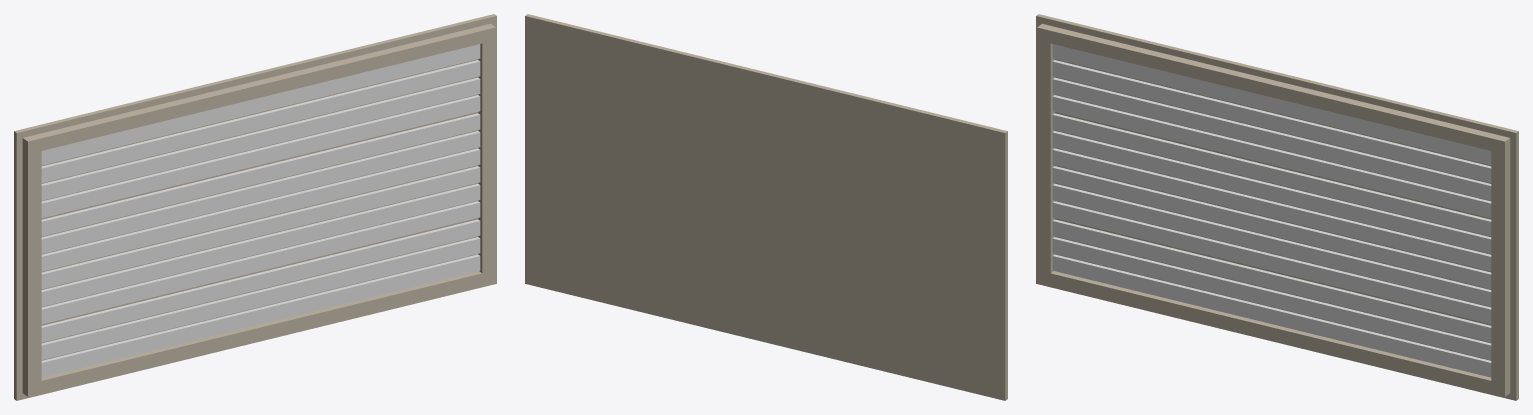
The model's file is board.fbx.
3 renders of one model, left to right at view 1: azimuth 30°, elevation 25°; view 2: azimuth 150°, elevation 25°; view 3: azimuth 330°, elevation 25°, orthographic.
Parts seen in each view (by area): view 1: board; view 2: board; view 3: board.
Part boxes in pixels (<box>): board: <box>14,14,496,400</box>; board: <box>525,14,1007,400</box>; board: <box>1036,14,1518,400</box>.
Size of the model in its own units: 4.23 by 2.26 by 0.1188.
